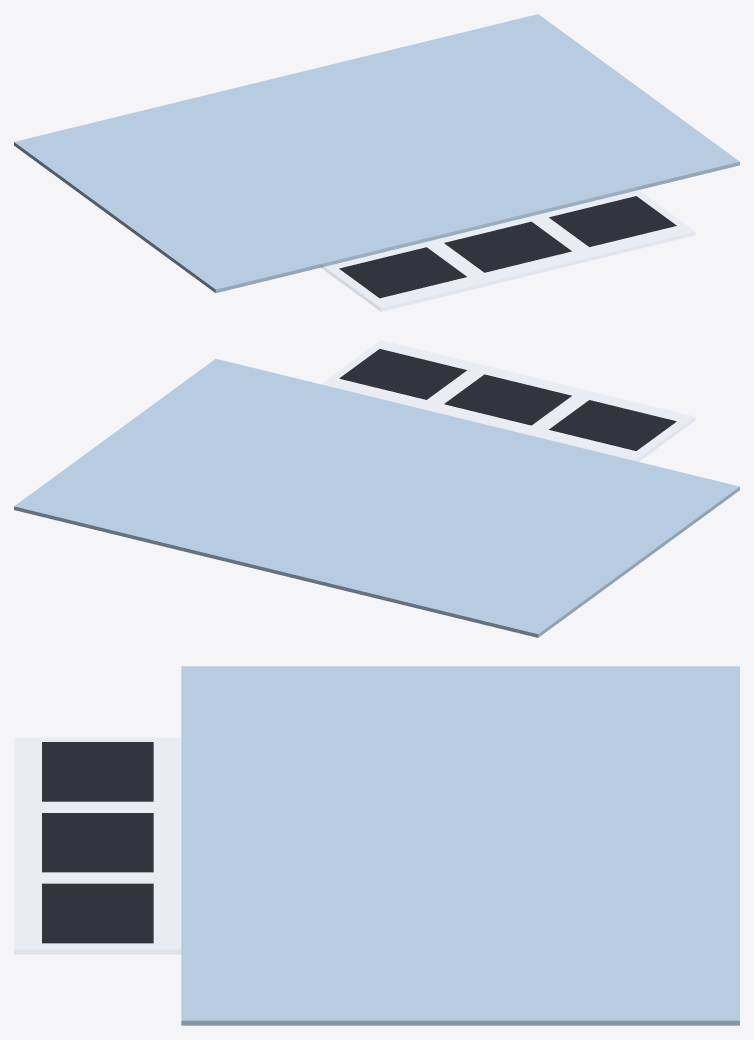
File: Lobby.glb
The picture shows the model from 3 angles, top to bottom: view 1: azimuth 30°, elevation 25°; view 2: azimuth 150°, elevation 25°; view 3: azimuth 270°, elevation 25°; orthographic projection. The views are drawn at different scales.
Visible parts, largest first — view 1: Spawn_Lobby, Map Selection, Map3, Map2, Map1; view 2: Spawn_Lobby, Map Selection, Map2, Map3, Map1; view 3: Spawn_Lobby, Map Selection, Map1, Map2, Map3.
Part boxes in pixels (box(x1,y1,x2,y2)): Spawn_Lobby: box(14, 14, 739, 292); Map Selection: box(321, 188, 694, 311); Map3: box(339, 247, 466, 298); Map2: box(444, 221, 571, 272); Map1: box(549, 196, 676, 246); Spawn_Lobby: box(14, 359, 739, 637); Map Selection: box(322, 340, 694, 461); Map2: box(444, 374, 571, 425); Map3: box(549, 400, 676, 450); Map1: box(339, 349, 466, 399); Spawn_Lobby: box(181, 666, 739, 1025); Map Selection: box(14, 738, 180, 953); Map1: box(42, 883, 153, 943); Map2: box(42, 813, 153, 872); Map3: box(42, 742, 153, 801).
Size of what is drawn, in the model's own units: 15 by 0.1211 by 13.
